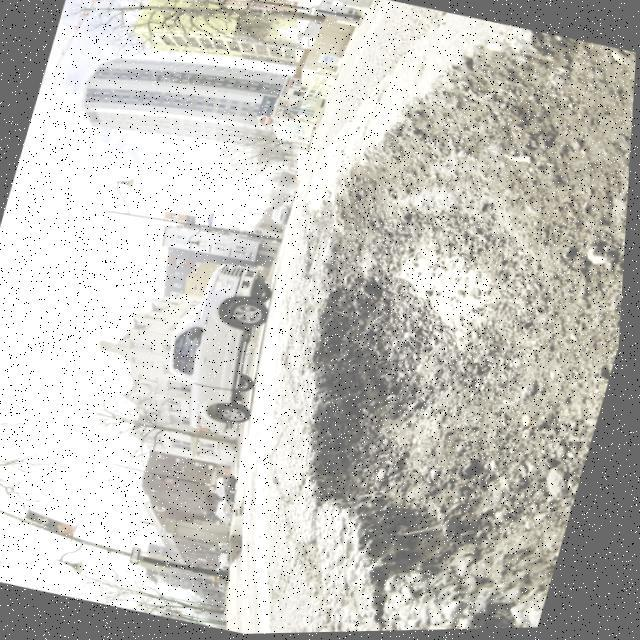pothole: (207, 0, 640, 636)
